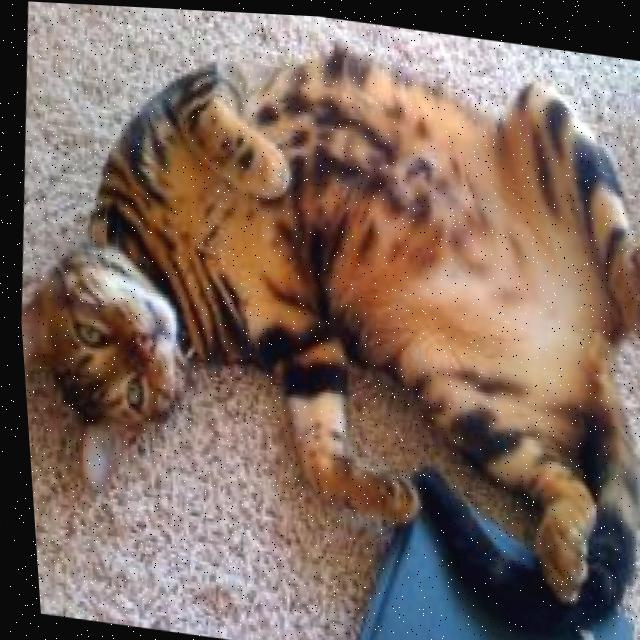Bengal: (0, 0, 640, 617)
